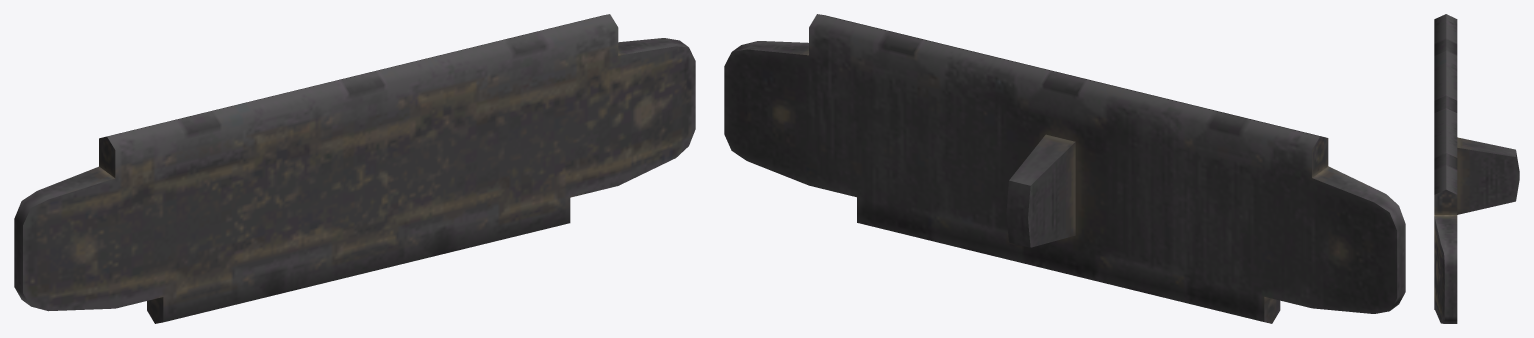
3 renders of one model, left to right at view 1: azimuth 30°, elevation 25°; view 2: azimuth 150°, elevation 25°; view 3: azimuth 270°, elevation 25°, orthographic. The views are drawn at different scales.
Parts seen in each view (by area): view 1: set_0_group_0; view 2: set_0_group_0; view 3: set_0_group_0.
Part boxes in pixels (x1,y1,x2,y2): set_0_group_0: (14, 14, 695, 323); set_0_group_0: (724, 14, 1405, 323); set_0_group_0: (1434, 14, 1519, 323).
Size of the model in its own units: 0.6601 by 0.1866 by 0.1014.
1 material, 1 textured.
